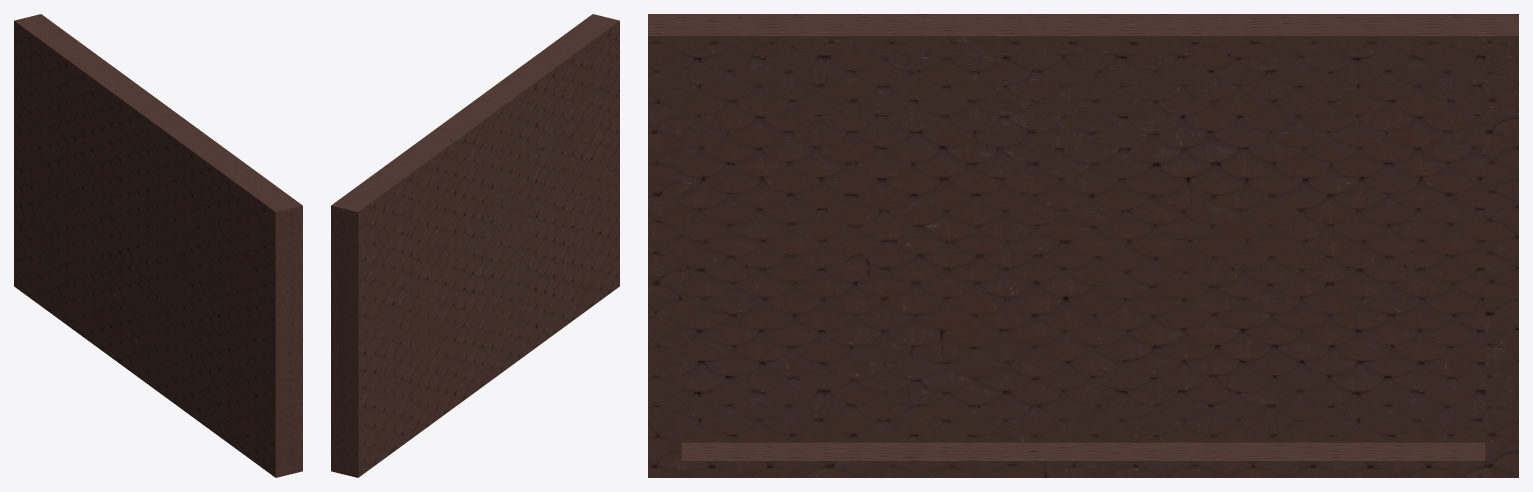
Rendered from frame.gltf.
3 renders of one model, left to right at view 1: azimuth 30°, elevation 25°; view 2: azimuth 150°, elevation 25°; view 3: azimuth 270°, elevation 25°, orthographic. The views are drawn at different scales.
Parts seen in each view (by area): view 1: Frame; view 2: Frame; view 3: Frame.
Part boxes in pixels (<box>): Frame: <box>14,14,302,477</box>; Frame: <box>331,14,619,477</box>; Frame: <box>648,14,1518,477</box>.
Size of the model in its own units: 0.6 by 5.6 by 10.
1 material, 1 textured.
